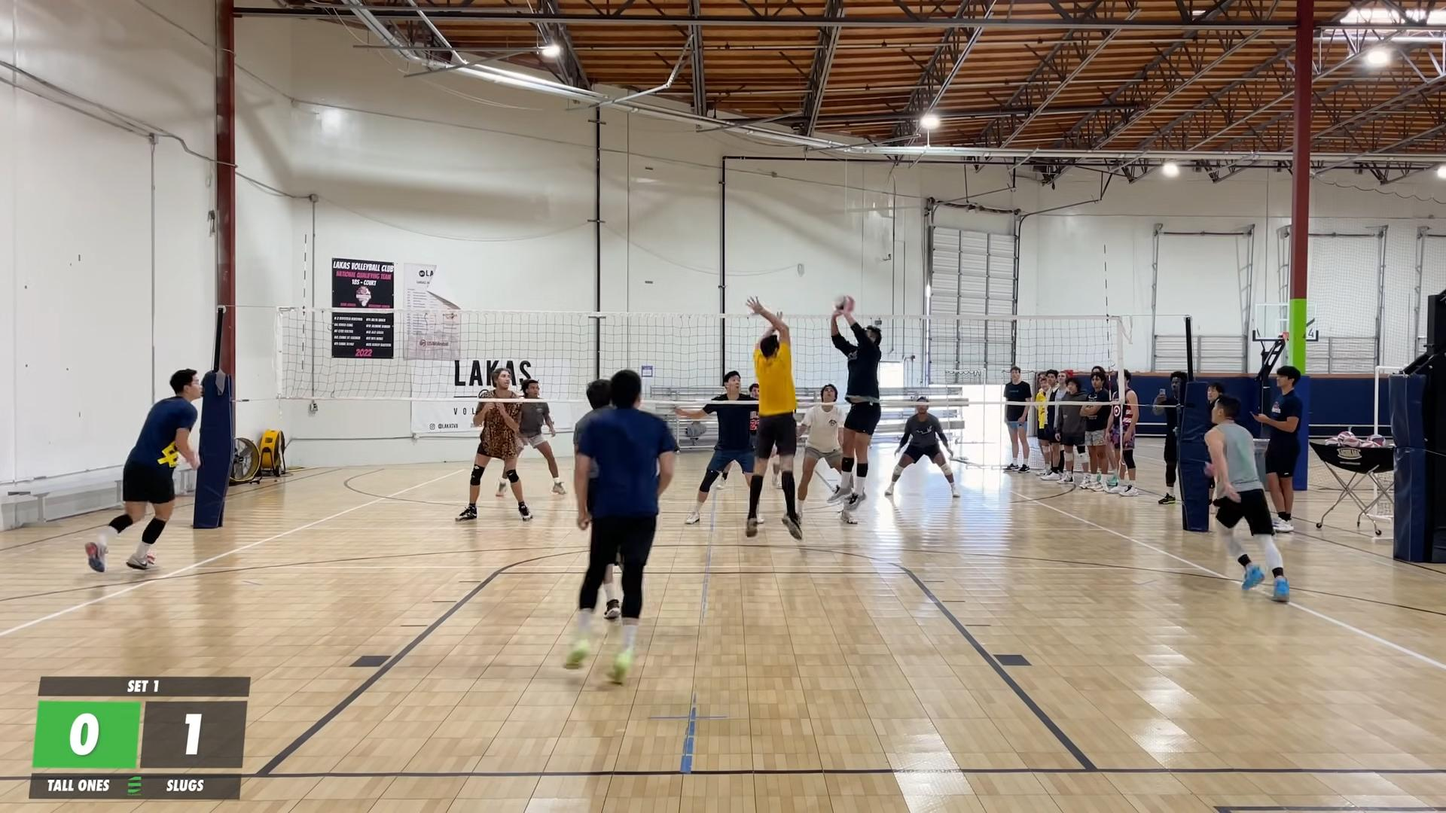Attack: (738, 293, 806, 543)
Player: (565, 370, 676, 683), (85, 369, 201, 571), (1205, 396, 1289, 601), (674, 371, 755, 524), (456, 369, 532, 521), (885, 397, 959, 497), (797, 384, 844, 514), (519, 380, 565, 494), (575, 379, 611, 456), (749, 383, 759, 447)
Set: (811, 293, 902, 519)
ball: (831, 295, 855, 318)
